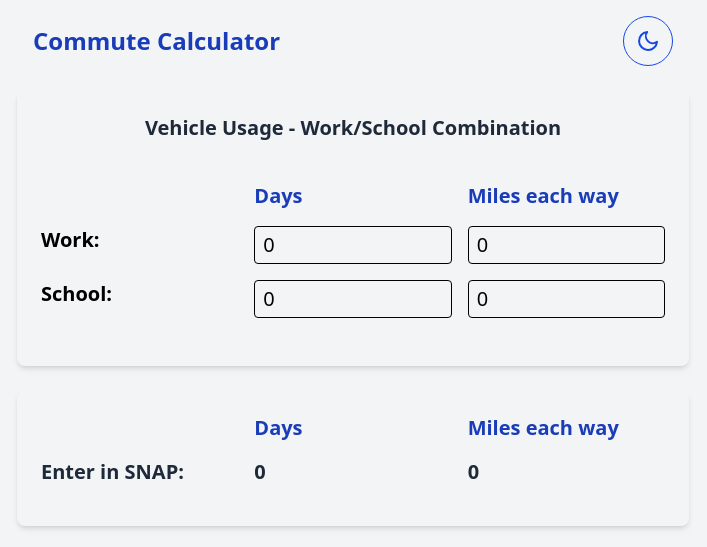
Commute Calculator › Case 1: Work 4 days, 12 miles | School 3 days, 7 miles
Replace the text in the field named "workDays" with "4". click: coordinates (353, 245)
box: top-left (254, 226), bottom-right (452, 264)
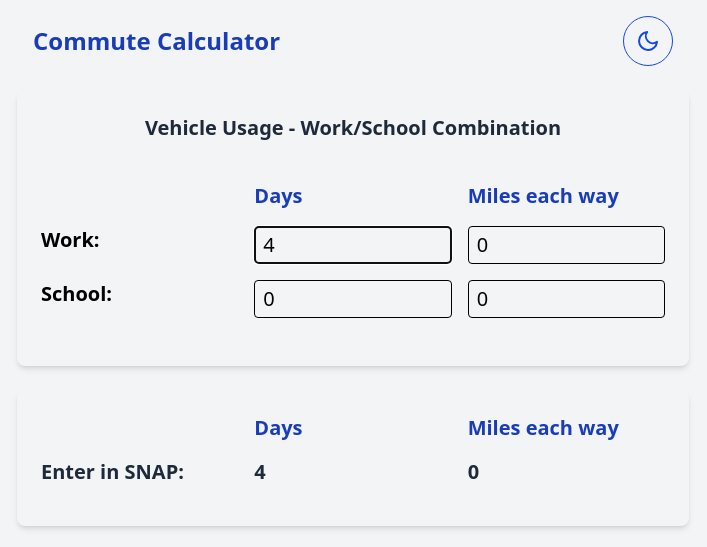
Replace the text in the field named "workMiles" with "12". click: coordinates (566, 245)
box: top-left (468, 226), bottom-right (665, 264)
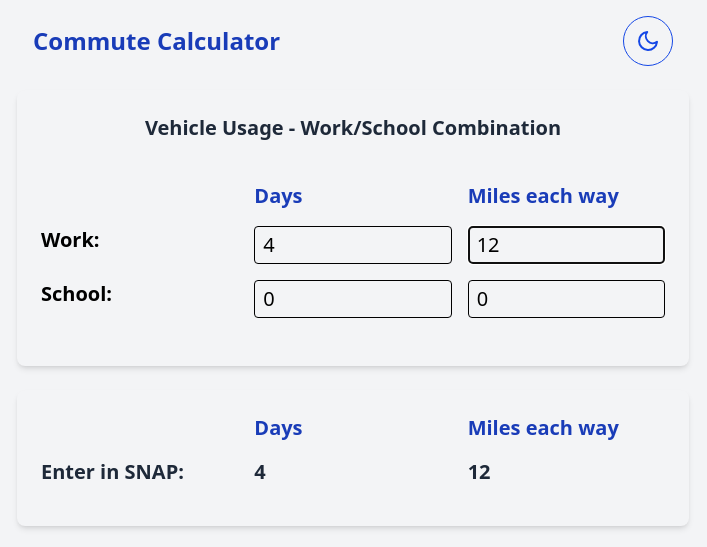
Replace the text in the field named "schoolDays" with "3". click: coordinates (353, 299)
box: top-left (254, 280), bottom-right (452, 318)
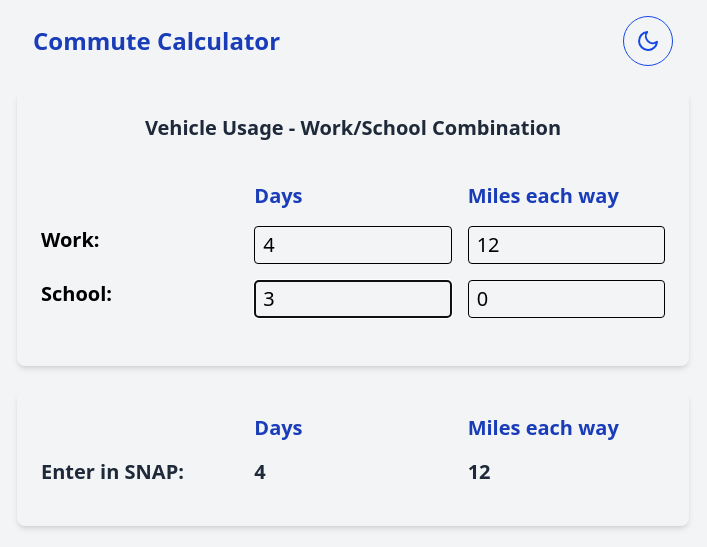
Replace the text in the field named "schoolMiles" with "7". click: coordinates (566, 299)
box: top-left (468, 280), bottom-right (665, 318)
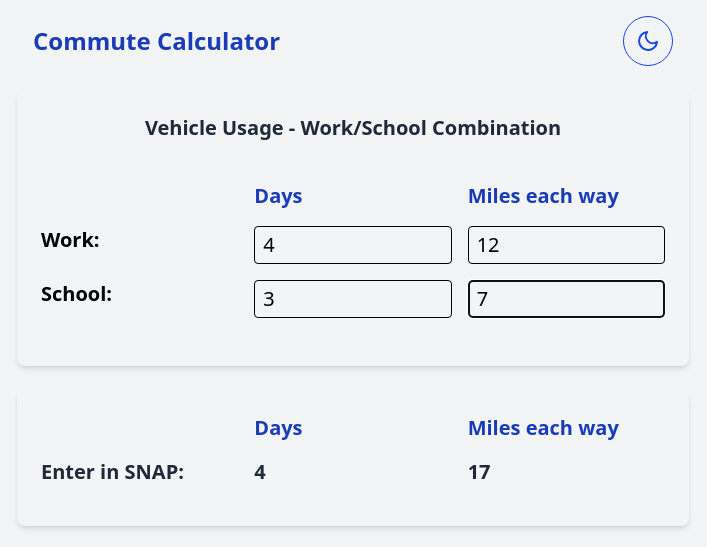
Result: the text "4" is shown at top-left (254, 458), bottom-right (266, 485)
Result: the text "17" is shown at top-left (468, 458), bottom-right (491, 485)
